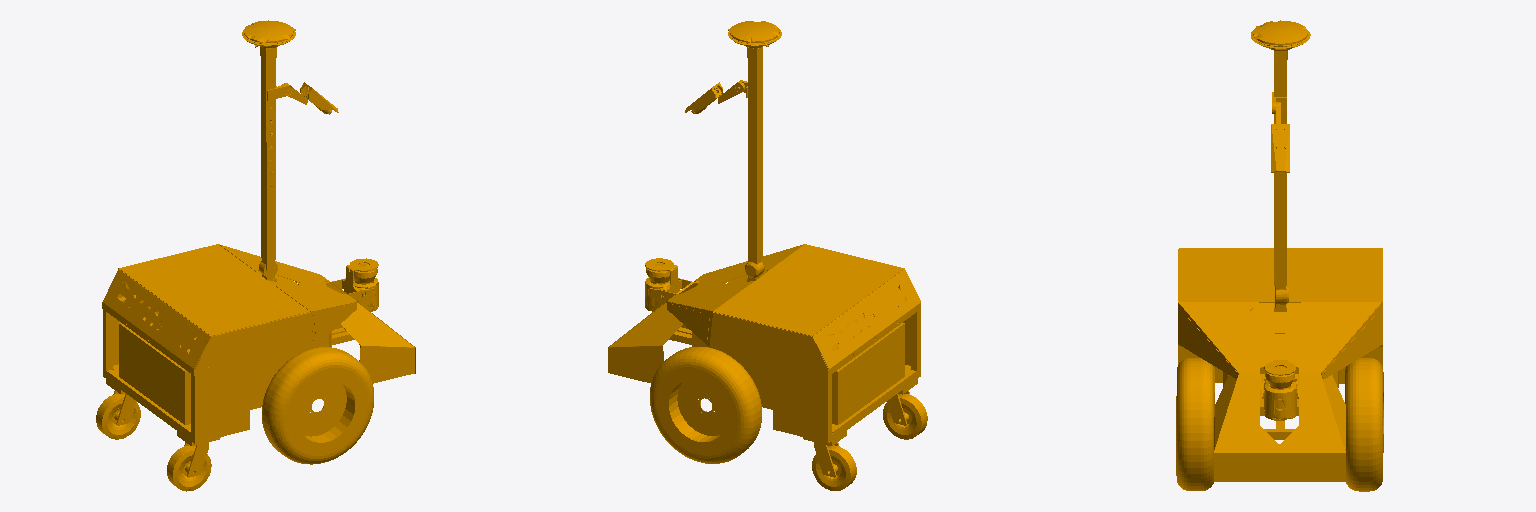
URDF robot description (capra6):
<robot name="capra6">
    <link name="base_link">
        <visual>
            <geometry>
                <mesh filename="package://capra_gazebo/models/capra6/meshes/capra6.dae"/>
                <!--<box size="0.6 0.6 0.2" />-->
            </geometry>
            <origin rpy="1.57 0 1.57" xyz="0 0 0.2" />
        </visual>
        <inertial>
            <mass value="1" />
            <inertia ixx="1.0" ixy="0.0" ixz="0.0" iyy="1.0" iyz="0.0" izz="1.0" />
        </inertial>
        <collision>
            <geometry>
                <box size="0.6 0.6 0.2" />
            </geometry>
            <origin rpy="0 0 0" xyz="0 0 0.15" />
        </collision>
    </link>

    <joint name="joint4" type="fixed">
        <parent link="base_link" />
        <child link="pole" />
        <origin xyz="0 0 0" rpy="0 0 0" />
    </joint>


    <link name="pole">
        <inertial>
            <mass value="1" />
            <inertia ixx="1.0" ixy="0.0" ixz="0.0" iyy="1.0" iyz="0.0" izz="1.0" />
        </inertial>
        <collision>
            <geometry>
                <box size="0.05 0.05 1.2" />
            </geometry>
            <origin rpy="0 0 0" xyz="0 0 0.6" />
        </collision>
    </link>

    <joint name="joint1" type="fixed">
        <parent link="base_link" />
        <child link="laser" />
        <origin xyz="0.36 0 0.44" rpy="0 0 0" />
    </joint>
        
    <link name="laser">
        <inertial>
            <mass value="1" />
            <inertia ixx="1.0" ixy="0.0" ixz="0.0" iyy="1.0" iyz="0.0" izz="1.0" />
        </inertial>
        <collision>
            <geometry>
                <sphere radius="0.1" />
            </geometry>
        </collision>
    </link>

    <joint name="joint2" type="fixed">
        <parent link="base_link" />
        <child link="camera" />
        <origin xyz="0.28 0 1.28" rpy="0 0.5 0" />
    </joint>

    <link name='camera'>
        <inertial>
            <mass value="1" />
            <inertia ixx="1.0" ixy="0.0" ixz="0.0" iyy="1.0" iyz="0.0" izz="1.0" />
        </inertial>
        <collision>
            <geometry>
                <sphere radius="0.1" />
            </geometry>
        </collision>
    </link>

    <gazebo reference="base_link">
        <gravity>false</gravity>
    </gazebo>

    <gazebo reference="pole">
        <gravity>false</gravity>
    </gazebo>

    <gazebo reference="camera">
        <gravity>false</gravity>
        <sensor name="camera" type="camera" update_rate="20.0" >
            <camera>
                <horizontal_fov>1.047</horizontal_fov>
                <image>
                    <width>1292</width>
                    <height>734</height>
                </image>
                <clip>
                    <near>0.1</near>
                    <far>100</far>
                </clip>
                <noise>
                    <type>gaussian</type>
                    <mean>0.0</mean>
                    <stddev>0.007</stddev>
                </noise>
            </camera>
            <plugin name="camera_plugin" filename="libgazebo_ros_camera.so">
                <cameraName>cam</cameraName>
                <frameName>camera</frameName>
                <imageTopicName>image_raw</imageTopicName>
                <cameraInfoTopicName>camera_info</cameraInfoTopicName>
            </plugin>
            <always_on>1</always_on>
            <update_rate>40</update_rate>
            <visualize>true</visualize>
        </sensor>
    </gazebo>

    <gazebo reference="laser">
        <gravity>false</gravity>
        <material>Gazebo/Red</material>

        <sensor name="laser" type="ray">
            <pose>0.5 0 0.4 0 0 0</pose>
            <ray>
                <scan>
                    <horizontal>
                        <samples>540</samples>
                        <resolution>1</resolution>
                        <min_angle>-2.3562</min_angle>
                        <max_angle>2.3562</max_angle>
                    </horizontal>
                </scan>
                <range>
                    <min>0.5</min>
                    <max>20</max>
                    <resolution>0.01</resolution>
                </range>
                <noise>
                    <type>gaussian</type>
                    <mean>0.0</mean>
                    <stddev>0.01</stddev>
                </noise>
            </ray>
            <plugin name="laser" filename="libgazebo_ros_laser.so">
                <topicName>/scan</topicName>
                <frameName>laser</frameName>
            </plugin>
            <always_on>1</always_on>
            <update_rate>30</update_rate>
            <visualize>true</visualize>
        </sensor>
    </gazebo>

    <gazebo>
        <plugin name="object_controller" filename="libgazebo_ros_planar_move.so">
            <commandTopic>/cmd_vel</commandTopic>
            <odometryTopic>/odometry/motors</odometryTopic>
            <odometryFrame>map</odometryFrame>
            <odometryRate>20.0</odometryRate>
            <robotBaseFrame>base_footprint</robotBaseFrame>
        </plugin>

        <!-- see http://wiki.ros.org/hector_gazebo_plugins for gps and imu plugins-->

        <plugin name="gazebo_ros_gps" filename="libhector_gazebo_ros_gps.so" >
            <bodyName>base_link</bodyName>
            <frameId>map</frameId>
            <topicName>fix</topicName>
            <updateRate>50</updateRate>
            <offset>0 1.5 0</offset>
            <gaussianNoise>0 0 0</gaussianNoise>
            <referenceLatitude>45.501689</referenceLatitude>
            <referenceLongitude>-73.567256</referenceLongitude>
            <referenceHeading>0</referenceHeading>
        </plugin>

        <plugin name="gazebo_ros_imu" filename="libhector_gazebo_ros_imu.so">
            <bodyName>base_link</bodyName>
            <frameId>map</frameId>
            <topicName>imu_data</topicName>
            <updateRate>100</updateRate>
            <headingGaussianNoise>10.0</headingGaussianNoise>
            <headingOffset>100.0</headingOffset>
            <headingDrift>10.0</headingDrift>
            <accelOffset>0 0 0</accelOffset>
            <accelDrift>0 0 0</accelDrift>
            <accelDriftFrequency>0 0 0 </accelDriftFrequency>
            <accelGaussianNoise>0 0 0</accelGaussianNoise>
        </plugin>

    </gazebo>


</robot>

--- What the picture shows (computed from the rendered views, not written in the file) ---
Views: 3 orthographic renders of the robot side by side, from view 1: azimuth 30°, elevation 25°; view 2: azimuth 150°, elevation 25°; view 3: azimuth 270°, elevation 25°.
Robot: capra6 — 4 links, 3 joints (3 fixed); root link base_link; default pose: every joint at zero.
Links seen in each view (by area): view 1: base_link; view 2: base_link; view 3: base_link.
Link boxes in pixels (box(x1,y1,x2,y2)): base_link: box(96, 20, 415, 491); base_link: box(608, 21, 927, 490); base_link: box(1176, 20, 1383, 491).
Size in the robot's own frame: 1 by 0.6445 by 1.55 metres.
Meshes: 1 distinct files referenced, 1 mesh visuals loaded (1 Collada DAE).
